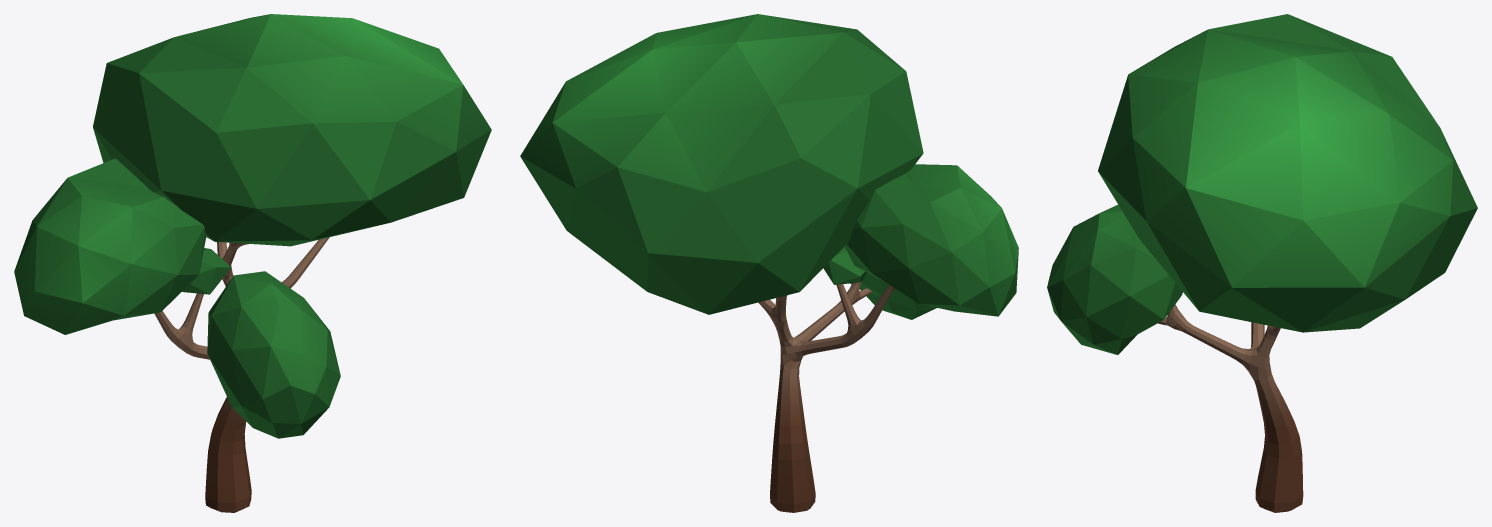
File: tree_4_1.fbx
3 views of the same model, side by side, from view 1: azimuth 30°, elevation 25°; view 2: azimuth 150°, elevation 25°; view 3: azimuth 270°, elevation 25° (orthographic). The views are drawn at different scales.
Visible parts, largest first — view 1: tree_4_1; view 2: tree_4_1; view 3: tree_4_1.
Boxes of the visible parts, x1,y1,x2,y2 form: tree_4_1: [14, 14, 491, 512]; tree_4_1: [520, 14, 1018, 512]; tree_4_1: [1047, 14, 1477, 512].
Bounding box in the file's own units: 727 × 731 × 601.
